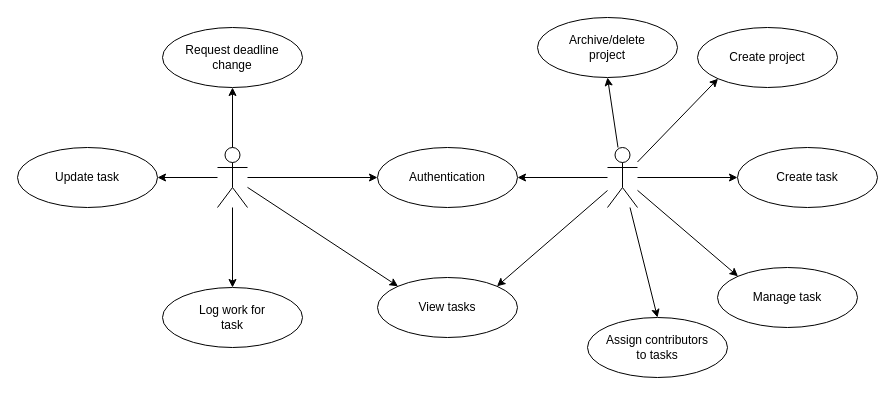
Image size: 895x395. Some labels were removed from this diagram. The centre of each missing label's shape, as x and y in pixels:
"Contributor" belongs at (232,177).
"Project Owner" belongs at (622,177).
